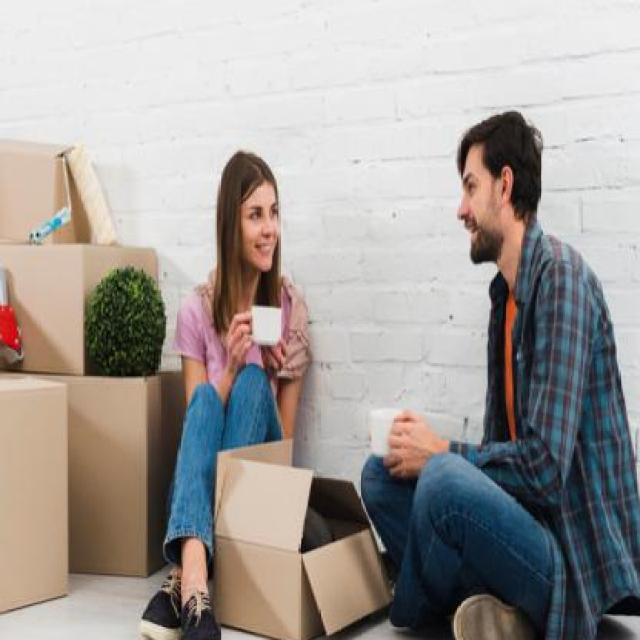box: (211, 447, 391, 640), (0, 245, 177, 385), (73, 373, 189, 582), (0, 376, 72, 623), (2, 136, 112, 237)
